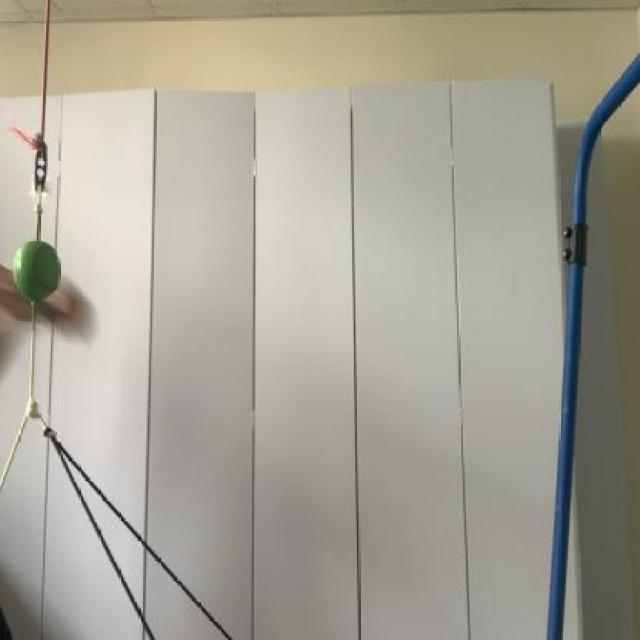baseball: (11, 233, 71, 313)
